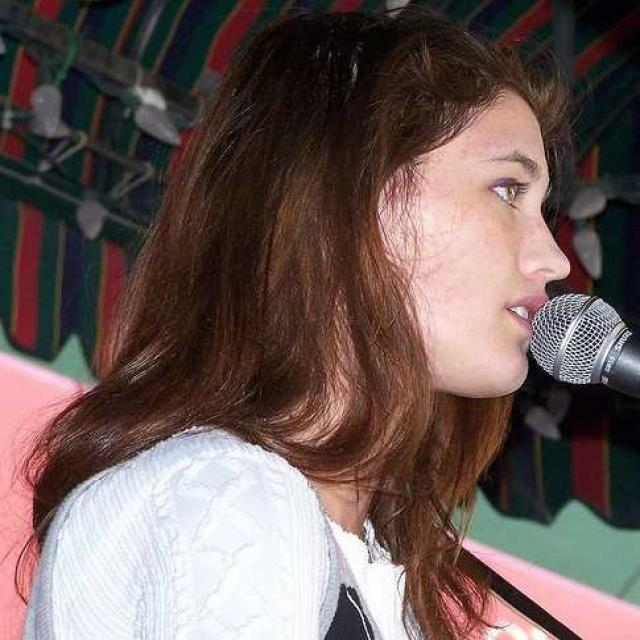microphone: (507, 280, 632, 409)
